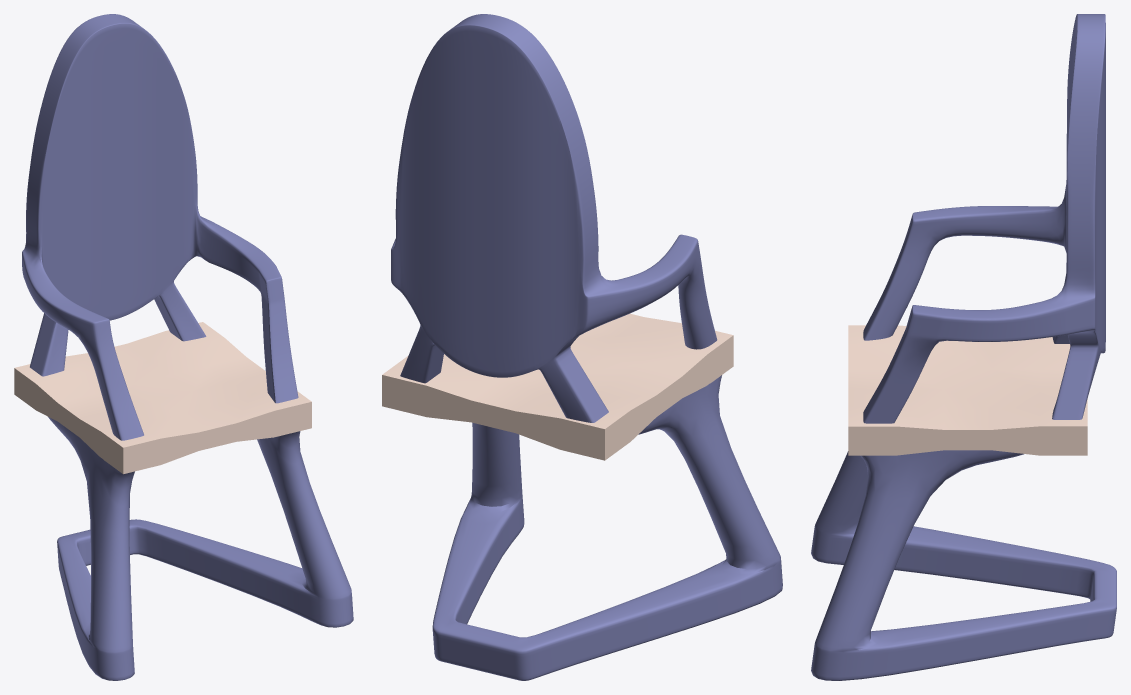
The picture shows the model from 3 angles, left to right: view 1: azimuth 30°, elevation 25°; view 2: azimuth 150°, elevation 25°; view 3: azimuth 270°, elevation 25°; orthographic projection. The views are drawn at different scales.
Parts seen in each view (by area): view 1: split_parent_1, Object_2; view 2: split_parent_1, Object_2; view 3: split_parent_1, Object_2.
Boxes of the visible parts, <box> form: split_parent_1: <box>22,14,353,680</box>; Object_2: <box>14,322,311,474</box>; split_parent_1: <box>391,14,782,680</box>; Object_2: <box>382,313,733,460</box>; split_parent_1: <box>811,14,1116,680</box>; Object_2: <box>848,325,1087,455</box>.
Size of the model in its own units: 0.4875 by 1 by 0.4644.
